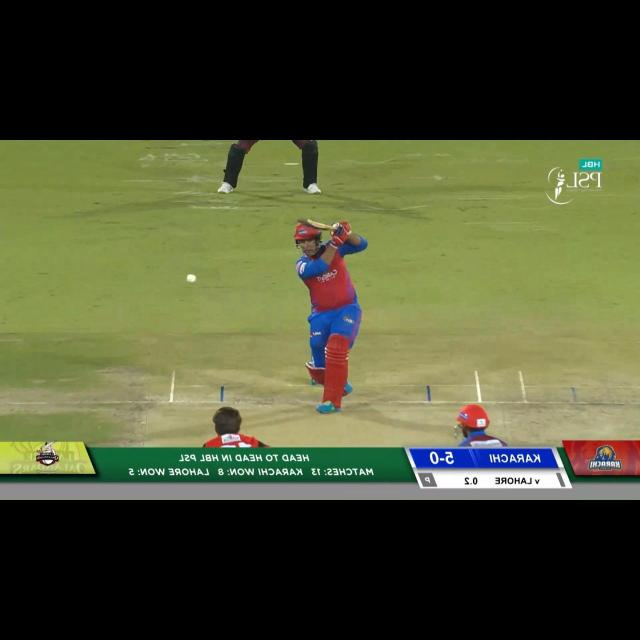bat: (298, 216, 311, 224)
toe: (297, 214, 339, 232)
